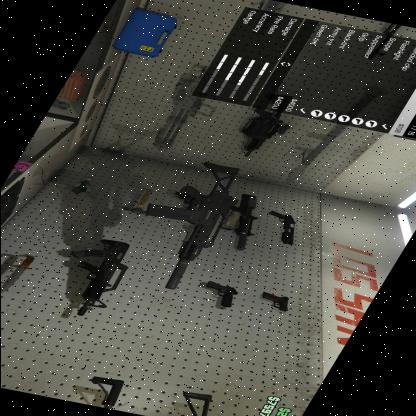rifle: (108, 148, 268, 302)
